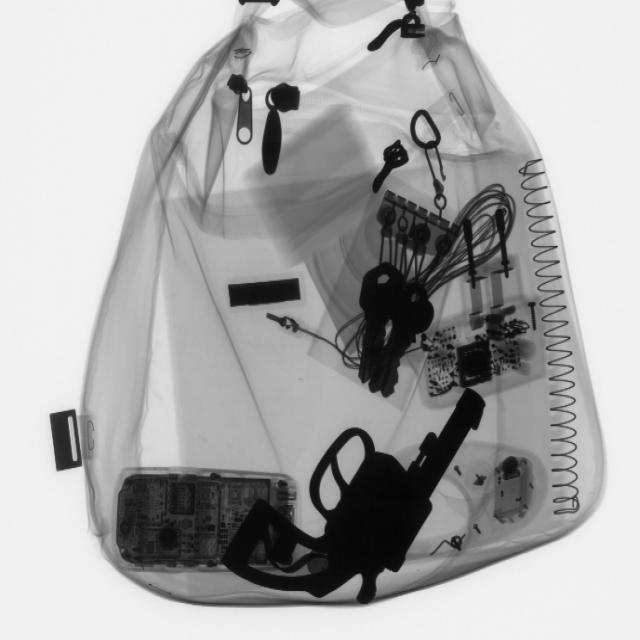GUN: (228, 378, 480, 610)
